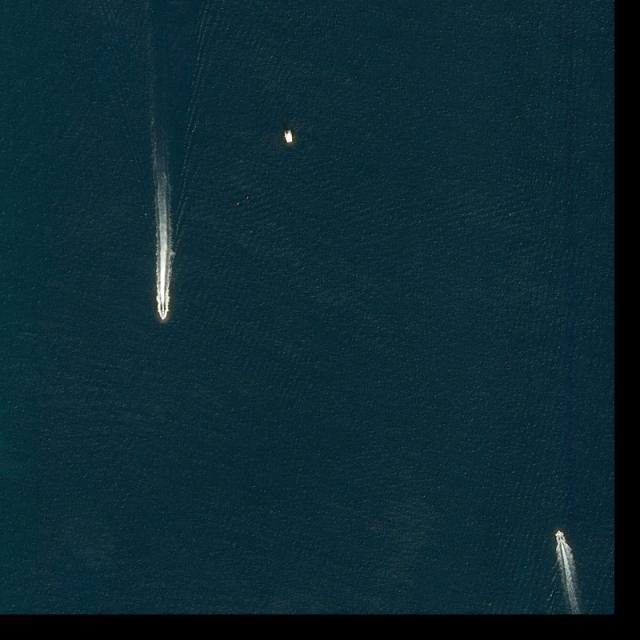ship: (284, 130, 293, 143), (162, 310, 166, 322), (557, 530, 562, 536)
